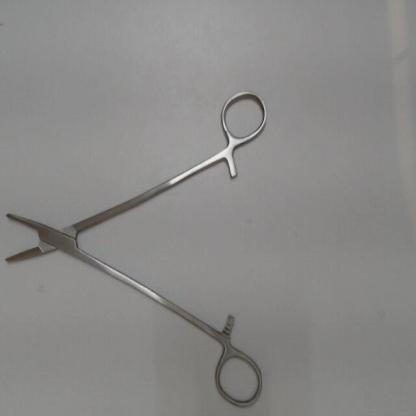8 Mayo Needle Holder: (3, 82, 273, 414)
